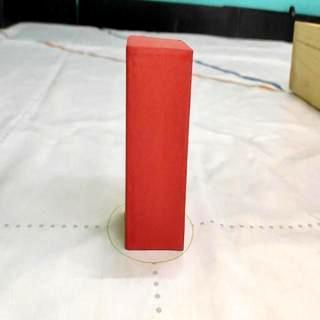redbox: (126, 36, 194, 252)
